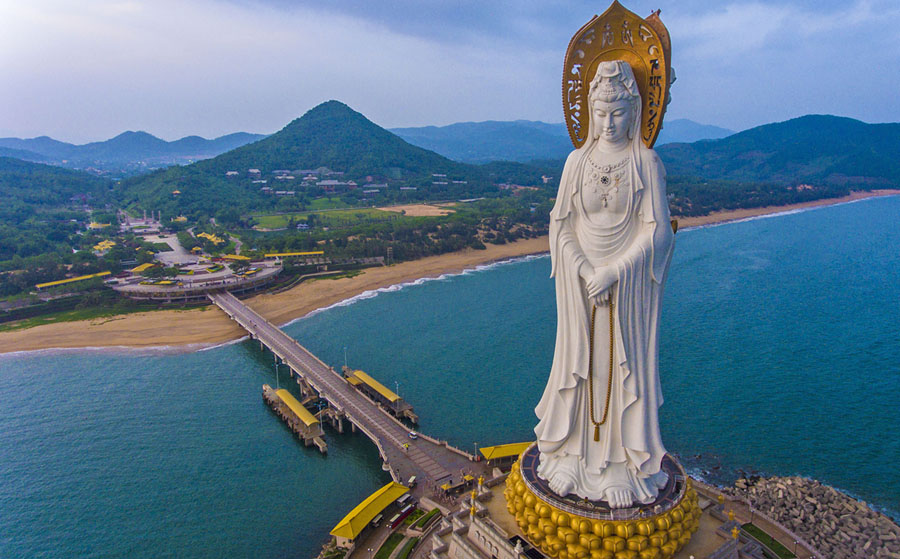person: (526, 60, 682, 512)
